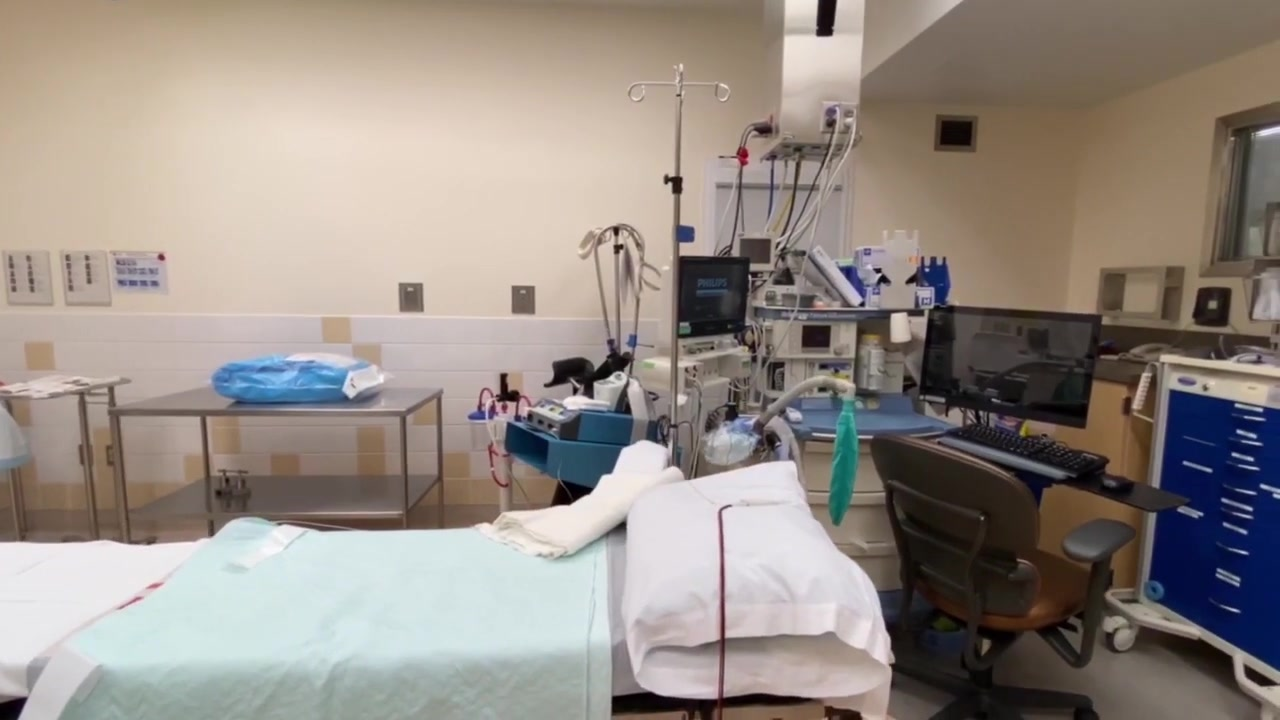bedside_monitor: (668, 256, 750, 348), (732, 235, 776, 274)
breathing_tube: (746, 372, 860, 458)
chair: (870, 430, 1138, 720)
computer: (919, 305, 1102, 431)
electrosurgical_unit: (521, 396, 637, 444)
handle: (1205, 593, 1242, 619), (1216, 540, 1250, 560), (1231, 409, 1266, 426), (1228, 434, 1263, 451), (1225, 457, 1260, 474), (1223, 481, 1258, 498), (1219, 507, 1254, 524)
iv_pole: (627, 63, 731, 469), (599, 224, 634, 373)
keyboard: (936, 422, 1108, 482)
medical_drawer: (1127, 349, 1280, 653), (787, 401, 939, 614)
mouse: (1101, 470, 1134, 496)
operating_bed: (1, 458, 892, 720)
utility_cart: (108, 383, 447, 547), (1, 373, 130, 541)
